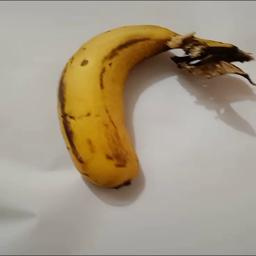Banana Semifresh: (52, 22, 252, 195)
